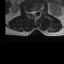CCS_normal: (32, 8, 34, 17)
LFS_normal: (37, 7, 39, 13)
LLS_normal: (34, 8, 37, 15)
RFS_normal: (28, 9, 30, 15)
RLS_normal: (30, 9, 32, 16)
